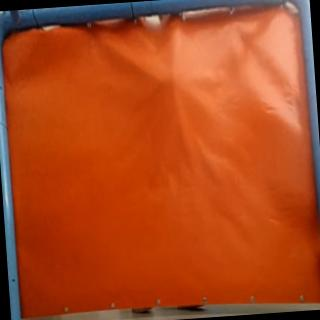Hit-hRxx: (167, 71, 181, 89)
